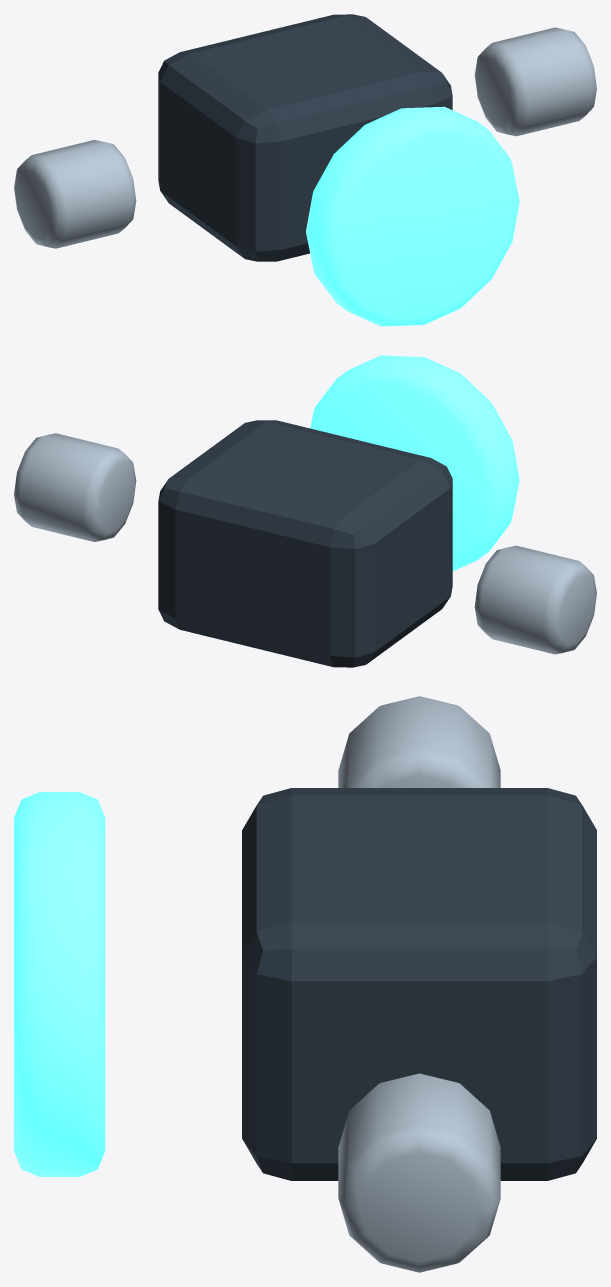
Rendered from Motor_Core.fbx.
3 views of the same model, one above another, from view 1: azimuth 30°, elevation 25°; view 2: azimuth 150°, elevation 25°; view 3: azimuth 270°, elevation 25° (orthographic). The views are drawn at different scales.
Visible parts, largest first — view 1: Motor_Body, Motor_Rotor, Motor_Axle, Motor_Axle.001; view 2: Motor_Body, Motor_Rotor, Motor_Axle.001, Motor_Axle; view 3: Motor_Body, Motor_Rotor, Motor_Axle.001, Motor_Axle.
Part boxes in pixels (x1,y1,x2,y2): Motor_Body: (158,14,452,261); Motor_Rotor: (306,106,519,326); Motor_Axle: (14,140,136,248); Motor_Axle.001: (474,27,596,136); Motor_Body: (158,420,452,667); Motor_Rotor: (310,355,519,571); Motor_Axle.001: (14,433,136,541); Motor_Axle: (474,545,596,654); Motor_Body: (242,788,596,1180); Motor_Rotor: (14,792,105,1176); Motor_Axle.001: (338,1073,500,1272); Motor_Axle: (338,696,500,787).
Size of the model in its own units: 2.08 by 0.76 by 1.15.
